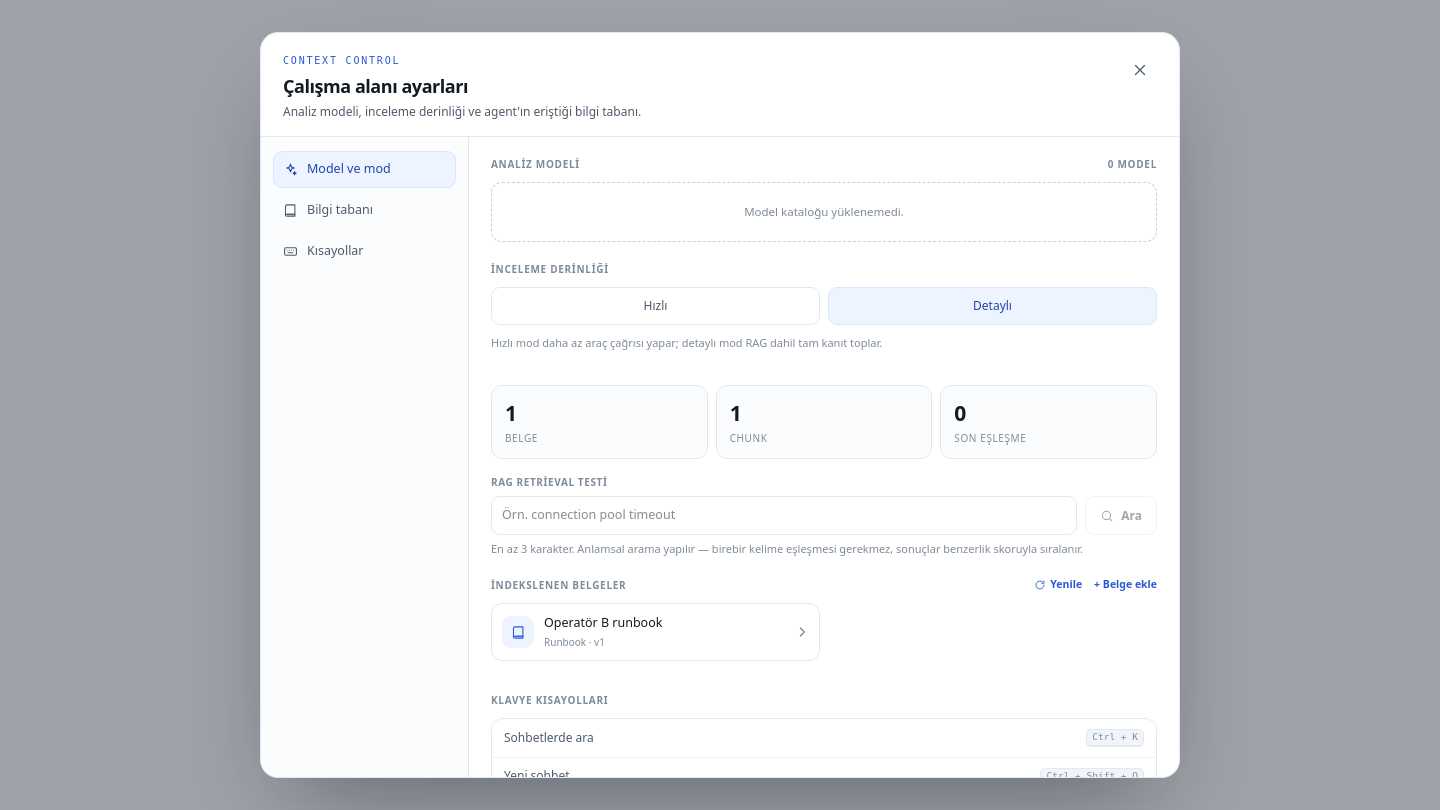
SettingsPanel › opens sanitized document details and runs a retrieval preview
Click the text "Operatör B runbook". click: click(603, 623)
box: [544,614,662,631]
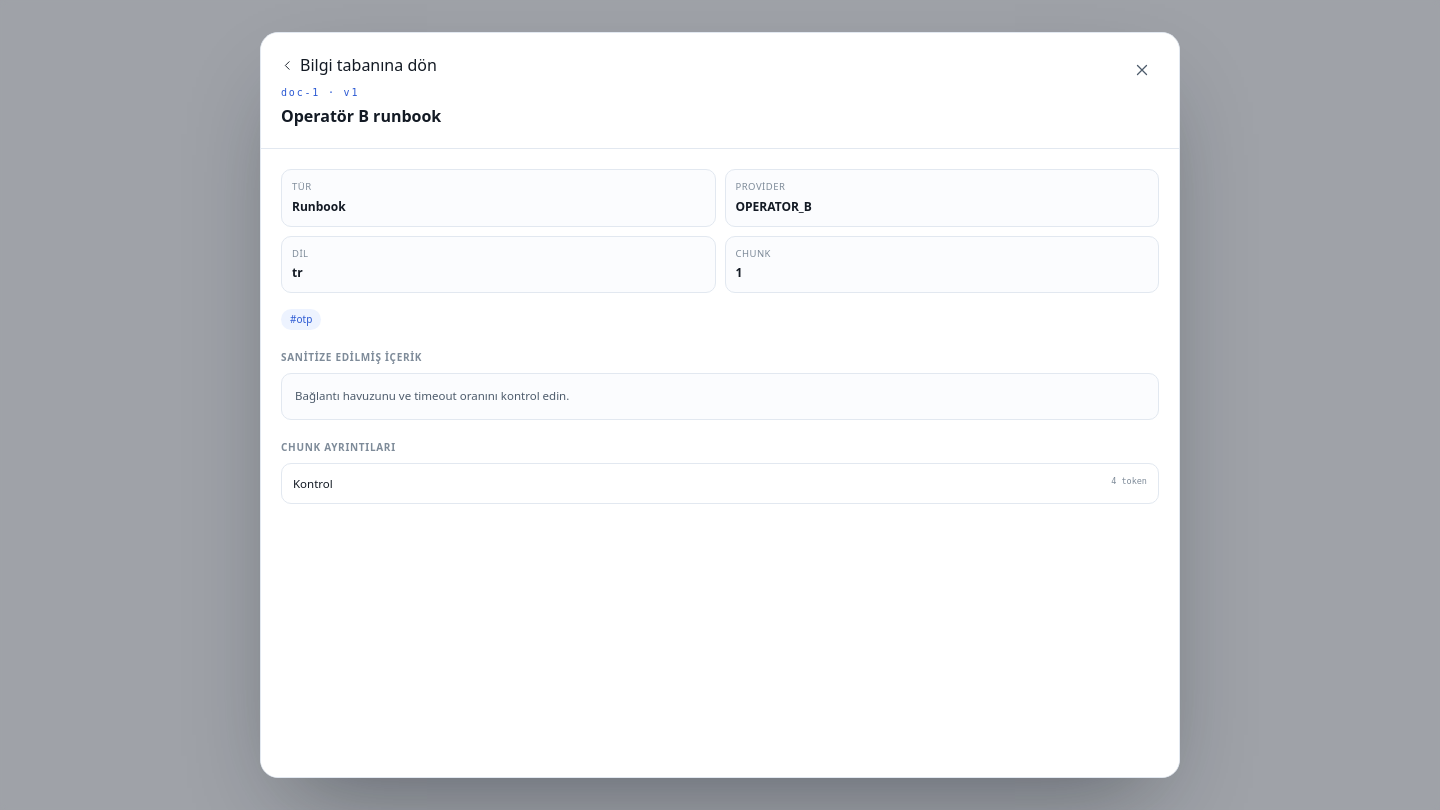
Result: the text "Bağlantı havuzunu ve timeout oranını kontrol edin." is shown at [281,373,1159,420]
Click the button named "Belge detayını kapat". click: click(1142, 70)
box: [1125,53,1159,87]
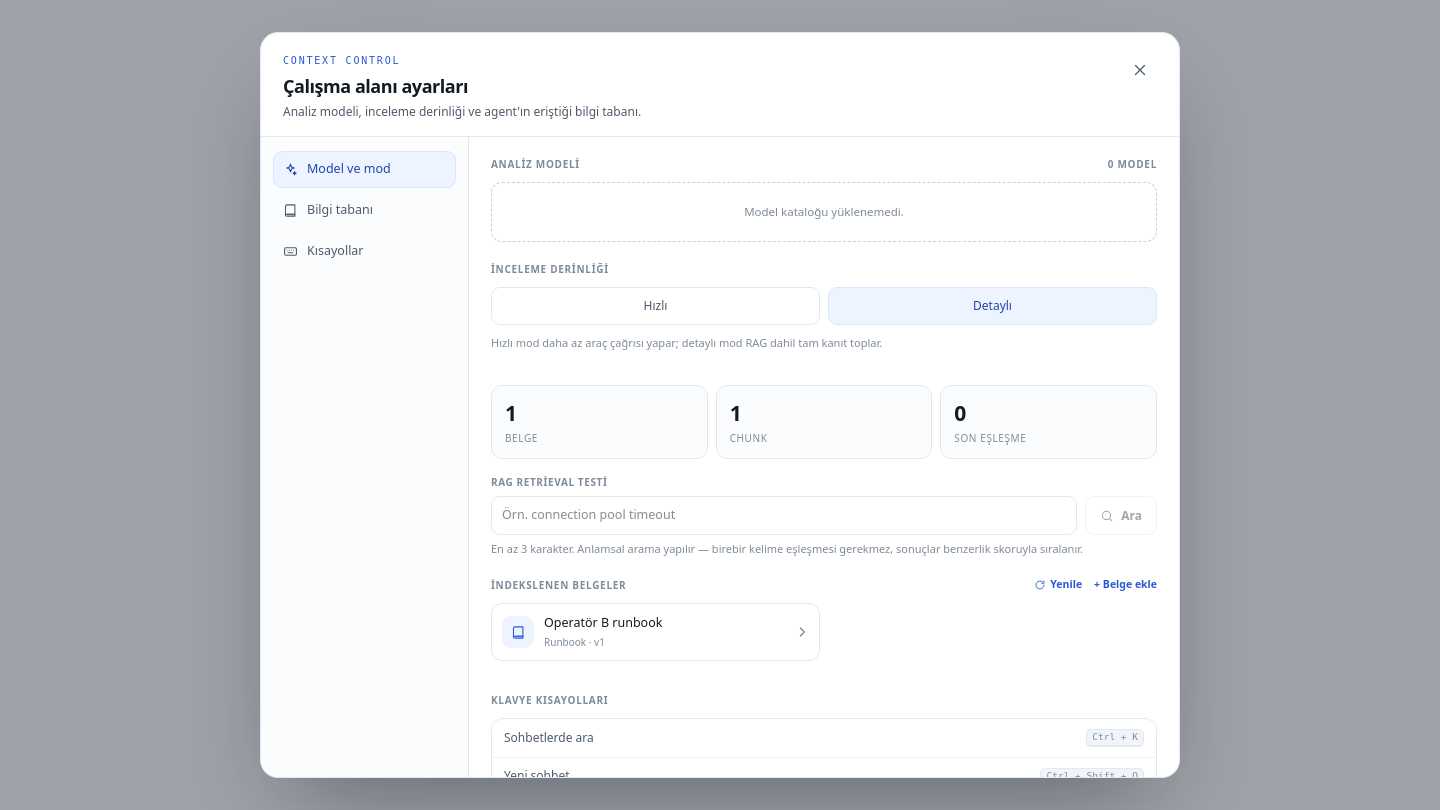
Type "connection pool" into the field with placeholder "Örn. connection pool timeout". click: (784, 516)
box: [491,496,1077,535]
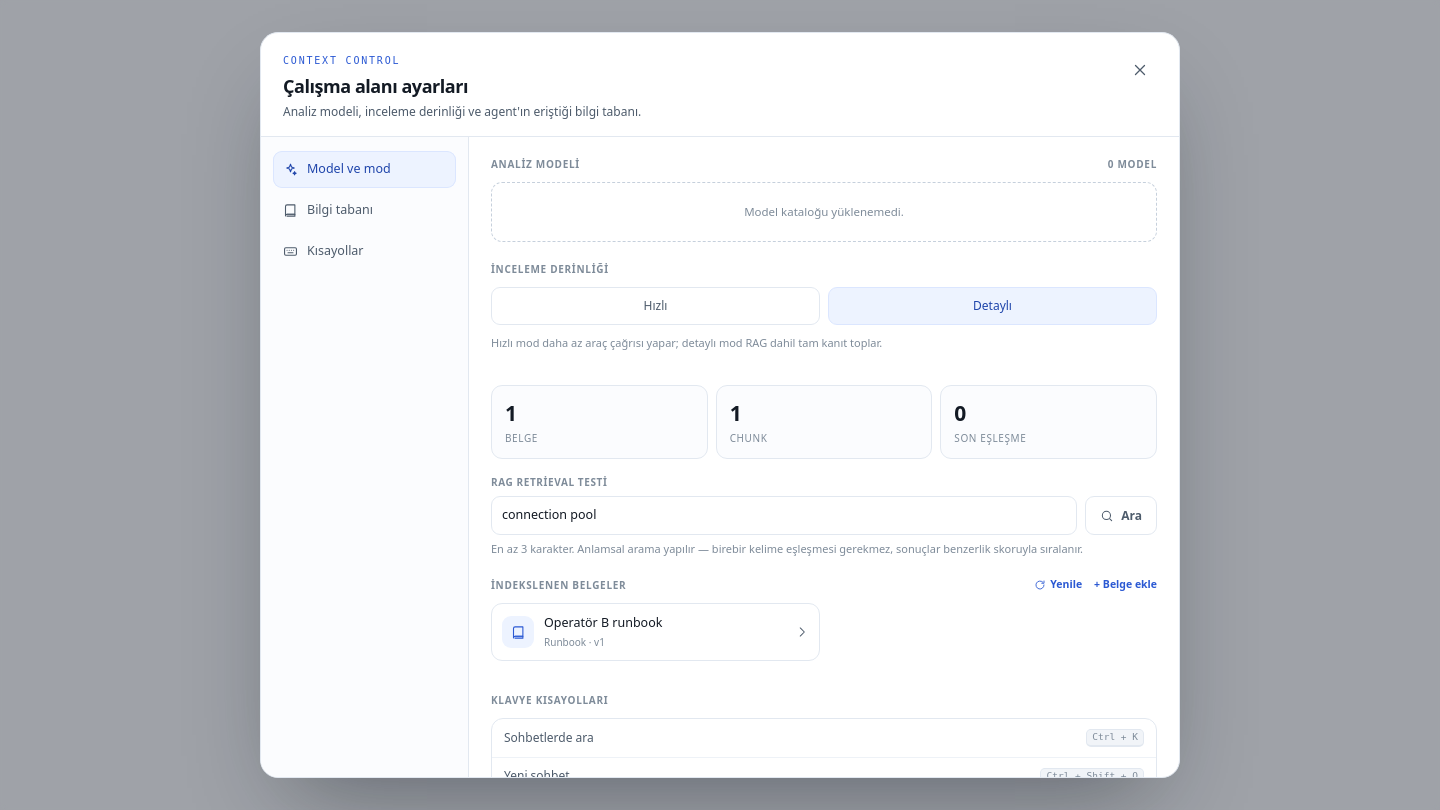
Click the button "Ara". click: click(1121, 516)
box: [1085,496,1157,535]
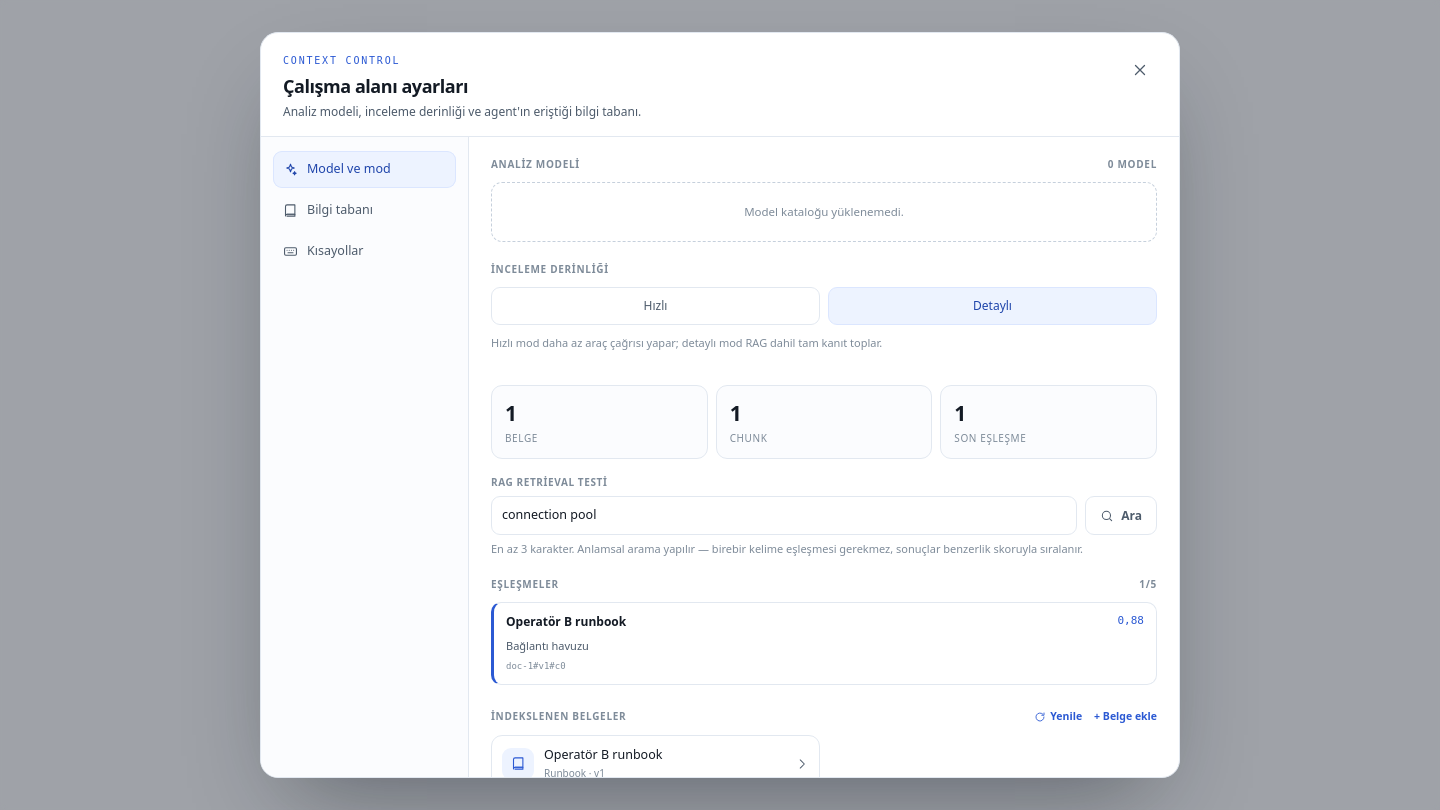
Result: the text "0,88" is shown at [1118,613,1144,630]
Result: the text "doc-1#v1#c0" is shown at [506,662,566,672]
